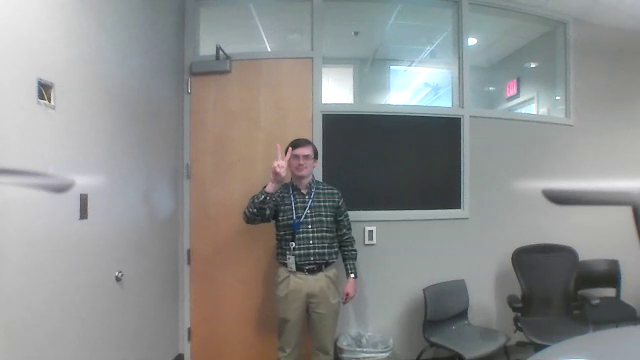peace: (269, 140, 292, 179)
